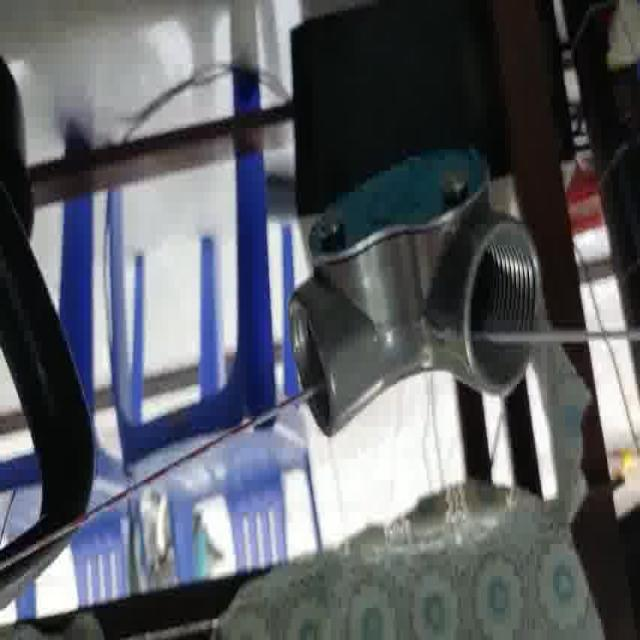Dry: (290, 142, 543, 432)
